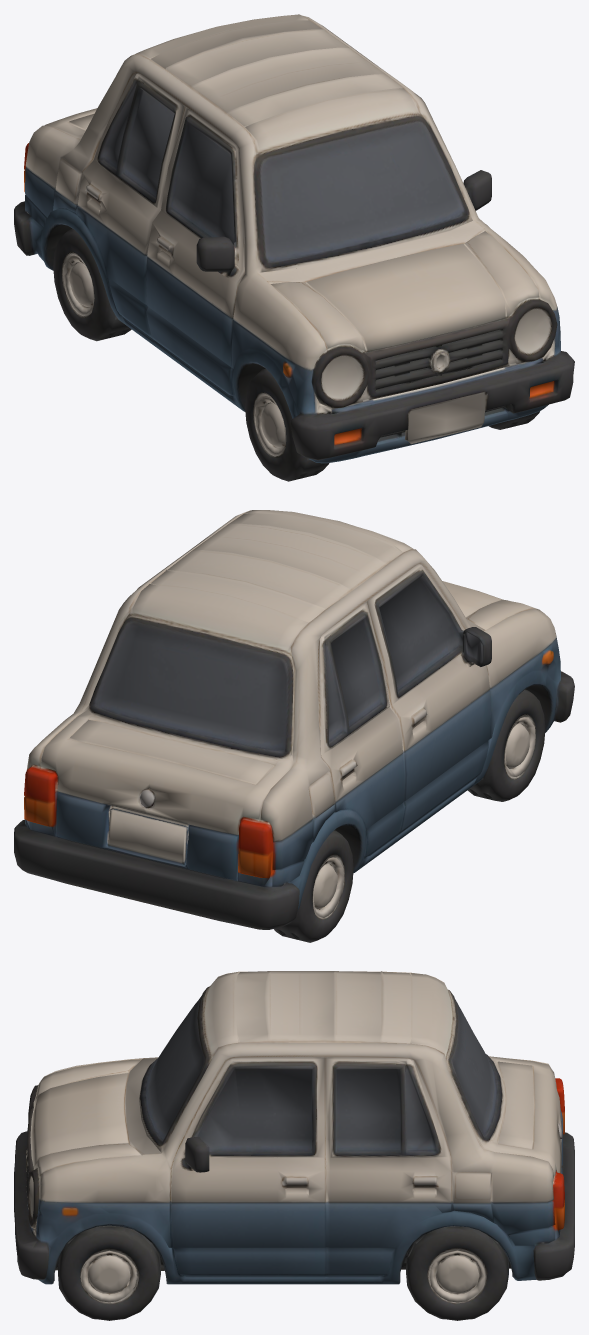
Rendered from Car_Sedan.fbx.
3 renders of one model, top to bottom at view 1: azimuth 30°, elevation 25°; view 2: azimuth 150°, elevation 25°; view 3: azimuth 270°, elevation 25°, orthographic. The views are drawn at different scales.
Parts seen in each view (by area): view 1: tripo_node_6d1382fa; view 2: tripo_node_6d1382fa; view 3: tripo_node_6d1382fa.
Part boxes in pixels (bbox=[...]): tripo_node_6d1382fa: bbox=[14, 14, 574, 481]; tripo_node_6d1382fa: bbox=[14, 510, 574, 942]; tripo_node_6d1382fa: bbox=[14, 971, 574, 1320].
Bounding box in the file's own units: 53.41 × 97.83 × 52.27.
1 material, 1 textured.
